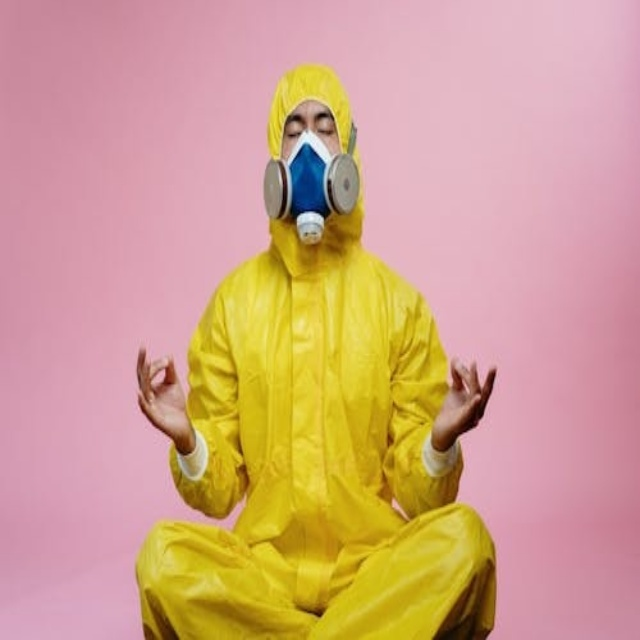Mascara: (265, 129, 359, 241)
Sin_gafas: (279, 108, 338, 144)
Sin_guantes: (430, 354, 498, 451), (137, 343, 194, 448)
